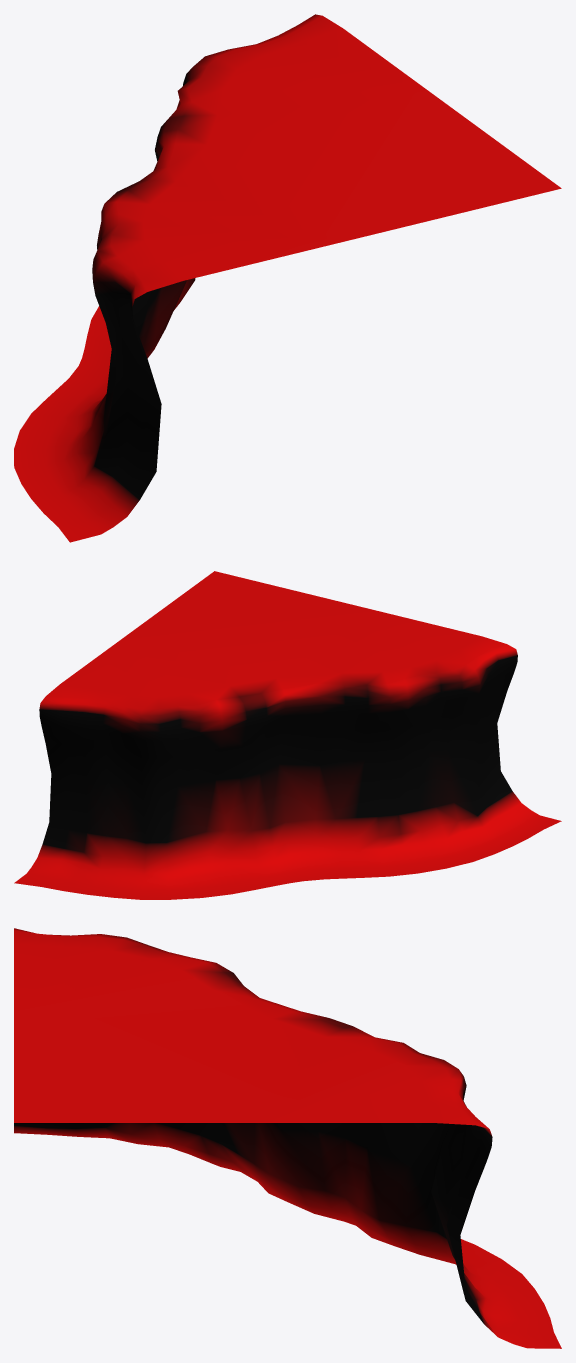
File: GroundCliff03A 1M Background.fbx
3 views of the same model, one above another, from view 1: azimuth 30°, elevation 25°; view 2: azimuth 150°, elevation 25°; view 3: azimuth 270°, elevation 25° (orthographic). The views are drawn at different scales.
Visible parts, largest first — view 1: GroundCliff03A 1M Background; view 2: GroundCliff03A 1M Background; view 3: GroundCliff03A 1M Background.
Part boxes in pixels (x1,y1,x2,y2): GroundCliff03A 1M Background: [14, 14, 561, 542]; GroundCliff03A 1M Background: [14, 571, 561, 899]; GroundCliff03A 1M Background: [14, 928, 561, 1348].
Size of the model in its own units: 2.2 by 1 by 2.2.
